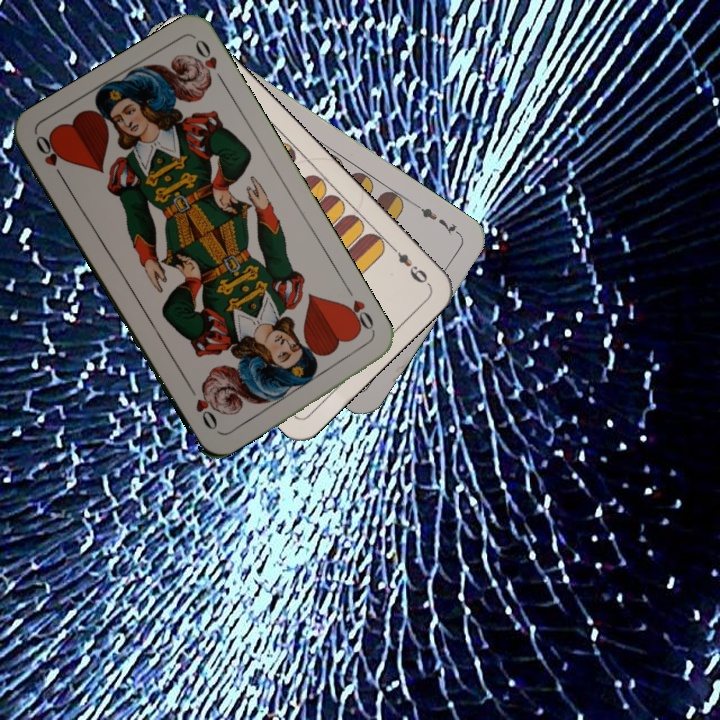E7: (411, 200, 464, 238)
E9: (386, 241, 432, 288)
HO: (337, 284, 378, 338), (31, 131, 69, 185)
